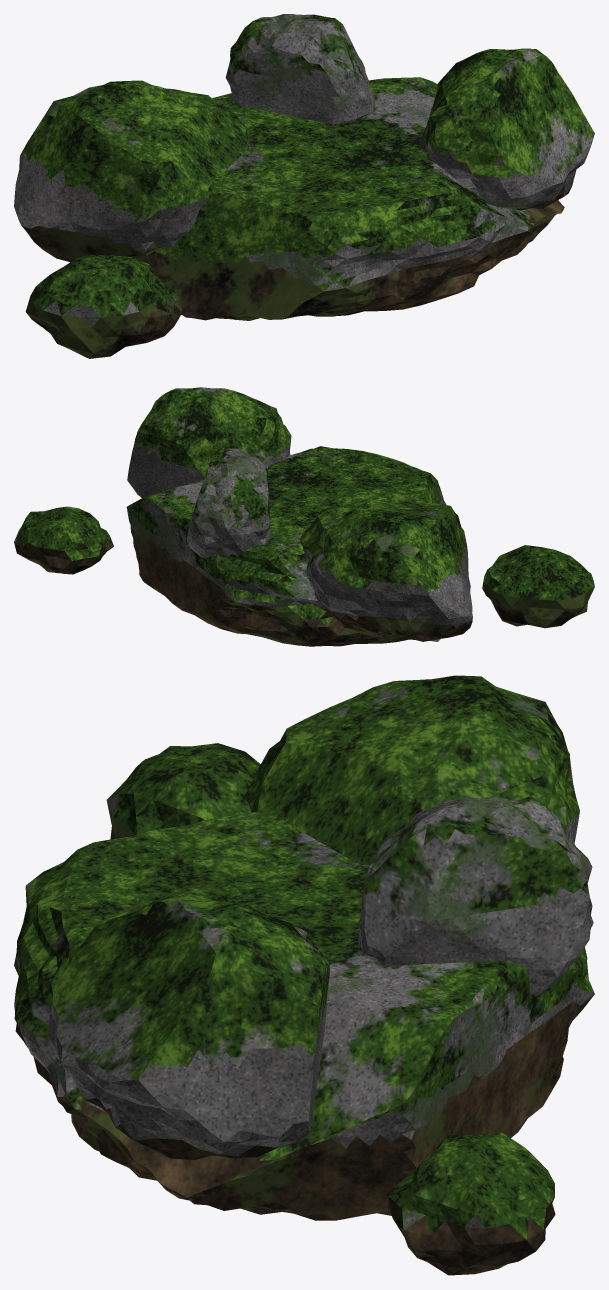
The model's file is Outcrop_Mossy.glb.
3 renders of one model, top to bottom at view 1: azimuth 30°, elevation 25°; view 2: azimuth 150°, elevation 25°; view 3: azimuth 270°, elevation 25°, orthographic. The views are drawn at different scales.
Parts seen in each view (by area): view 1: Outcrop_Mossy__Stone; view 2: Outcrop_Mossy__Stone; view 3: Outcrop_Mossy__Stone.
Boxes of the visible parts, <box> form: Outcrop_Mossy__Stone: <box>14,14,594,358</box>; Outcrop_Mossy__Stone: <box>14,387,594,646</box>; Outcrop_Mossy__Stone: <box>14,675,594,1275</box>.
Size of the model in its own units: 19.54 by 6.1 by 10.21.
Materials: 1 (1 with a texture image).
